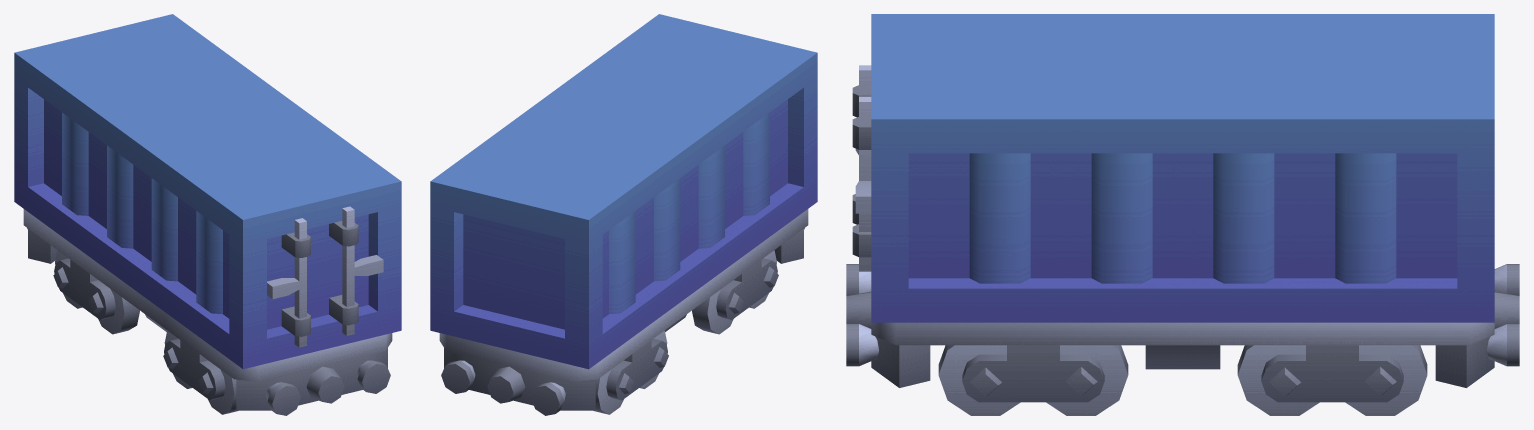
Rendered from train-carriage-container-blue.glb.
3 renders of one model, left to right at view 1: azimuth 30°, elevation 25°; view 2: azimuth 150°, elevation 25°; view 3: azimuth 270°, elevation 25°, orthographic. The views are drawn at different scales.
Visible parts, largest first — view 1: cargo, train-carriage-container-blue, wheels-back, wheels-front; view 2: cargo, train-carriage-container-blue, wheels-front, wheels-back; view 3: cargo, train-carriage-container-blue, wheels-back, wheels-front.
Boxes of the visible parts, x1=… form: cargo: x1=14, y1=14, x2=401, y2=369; train-carriage-container-blue: x1=23, y1=209, x2=392, y2=415; wheels-back: x1=53, y1=250, x2=139, y2=334; wheels-front: x1=163, y1=330, x2=238, y2=414; cargo: x1=430, y1=14, x2=817, y2=369; train-carriage-container-blue: x1=439, y1=209, x2=808, y2=415; wheels-front: x1=692, y1=250, x2=778, y2=334; wheels-back: x1=593, y1=330, x2=668, y2=414; cargo: x1=852, y1=14, x2=1494, y2=322; train-carriage-container-blue: x1=846, y1=264, x2=1519, y2=387; wheels-back: x1=1237, y1=345, x2=1427, y2=415; wheels-front: x1=938, y1=345, x2=1128, y2=415.
Size of the model in its own units: 1 by 1.36 by 2.7.
1 material, 1 textured.
